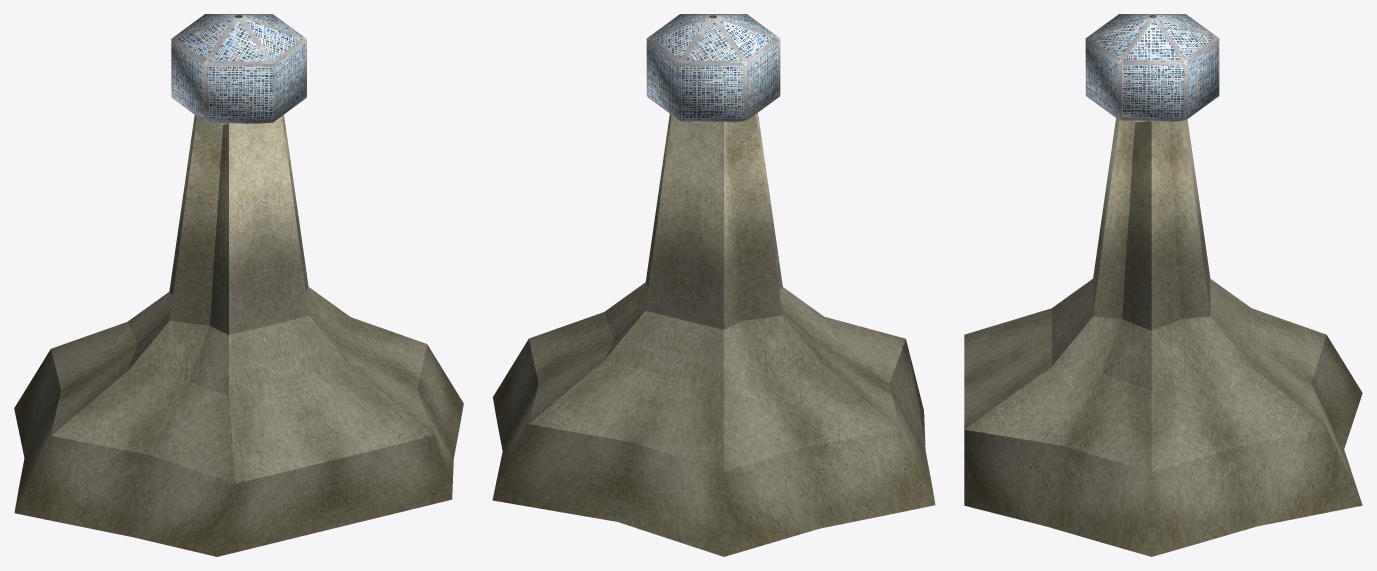
Rendered from Tower2.FBX.
The picture shows the model from 3 angles, left to right: view 1: azimuth 30°, elevation 25°; view 2: azimuth 150°, elevation 25°; view 3: azimuth 270°, elevation 25°; orthographic projection.
Parts seen in each view (by area): view 1: Sphere001; view 2: Sphere001; view 3: Sphere001.
Part boxes in pixels (left/top/right/bottom): Sphere001: left=14, top=14, right=463, bottom=556; Sphere001: left=492, top=14, right=935, bottom=556; Sphere001: left=964, top=14, right=1362, bottom=556.
Bounding box in the file's own units: 147 × 138 × 115.
1 material, 1 textured.
